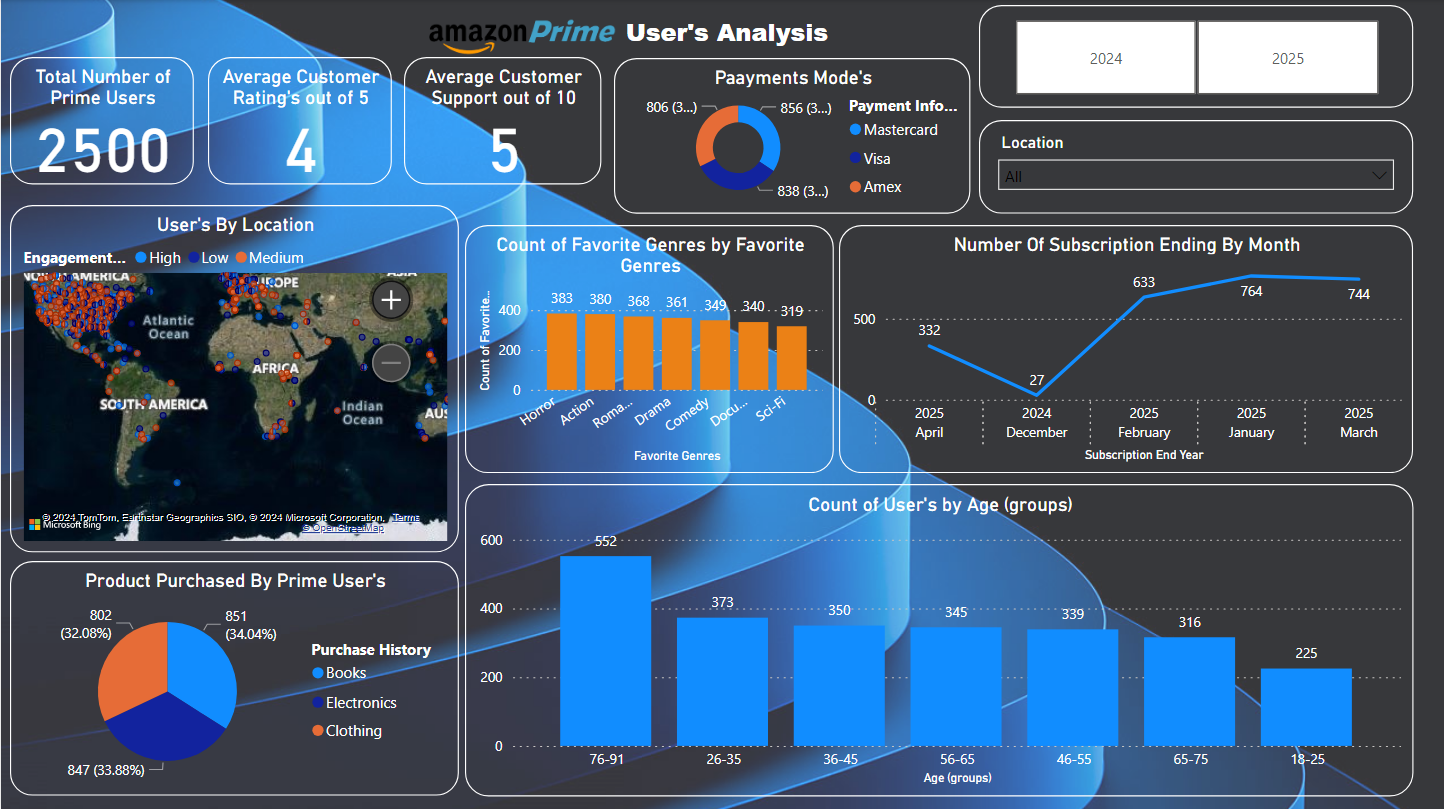

This screenshot's page, from the dashboard's own definition file:
{"tool":"powerbi","page":{"name":"Page 1","canvas":[1280,720],"ordinal":0},"visuals":[{"type":"card","title":"Total Number of Prime  Users","fields":{"Values":["amazon_prime_users.Total_NumOf_Subscribers"]},"box":[8.4,50.2,162.8,112.6],"z":0},{"type":"textbox","box":[8.4,8.4,1264.2,54],"z":1000},{"type":"card","title":"Average Customer Rating''s out of 5","fields":{"Values":["amazon_prime_users.Averageofratings"]},"box":[183.3,50.2,162.8,112.6],"z":2000},{"type":"map","title":"User''s By Location","fields":{"Category":["amazon_prime_users.Location","amazon_prime_users.Engagement Metrics"],"Series":["amazon_prime_users.Engagement Metrics"]},"box":[8.4,181.4,398.1,307.9],"z":3000},{"type":"pieChart","title":"Product Purchased By Prime User''s","fields":{"Y":["CountNonNull(amazon_prime_users.Purchase History)"],"Category":["amazon_prime_users.Purchase History"]},"box":[8.4,497.7,398.1,208.4],"z":4000},{"type":"clusteredColumnChart","title":"Count of User''s by Age (groups)","fields":{"Y":["CountNonNull(amazon_prime_users.User ID)"],"Category":["amazon_prime_users.Age (groups)"]},"box":[411.2,428.8,840.9,277.2],"z":5000},{"type":"donutChart","title":"Paayments Mode''s","fields":{"Y":["CountNonNull(amazon_prime_users.Payment Information)"],"Category":["amazon_prime_users.Payment Information"]},"box":[543.4,51,316.2,138.1],"z":6000},{"type":"lineChart","title":"Number Of Subscription Ending By Month","fields":{"Category":["amazon_prime_users.Subscription End Month","amazon_prime_users.Subscription End Year"],"Y":["CountNonNull(amazon_prime_users.Membership End Date)"]},"box":[743.1,199.5,509,219.9],"z":7000},{"type":"slicer","fields":{"Values":["amazon_prime_users.Subscription End Year"]},"box":[867.2,4.4,384.8,91.3],"z":8000},{"type":"slicer","fields":{"Values":["amazon_prime_users.Location"]},"box":[867.2,106.4,384.8,83.3],"z":9000},{"type":"card","title":"Average Customer Support out of 10","fields":{"Values":["amazon_prime_users.Average Cust Support"]},"box":[357.3,50.5,174.7,112.6],"z":10000},{"type":"clusteredColumnChart","fields":{"Category":["amazon_prime_users.Favorite Genres"],"Y":["CountNonNull(amazon_prime_users.Favorite Genres)"]},"box":[411.3,199.2,327.3,220.2],"z":11000},{"type":"image","box":[284.6,12.4,355.6,42.6],"z":11002}]}

Visuals, with their boxes in screenshot pixels (x1, y1, x2, y2), scaled from the page's 1280x720 canvas onto the 1444x809 screenshot:
"Total Number of Prime  Users" card: bbox=(9, 56, 193, 183)
textbox: bbox=(9, 9, 1436, 70)
"Average Customer Rating''s out of 5" card: bbox=(207, 56, 390, 183)
"User''s By Location" map: bbox=(9, 204, 459, 550)
"Product Purchased By Prime User''s" pieChart: bbox=(9, 559, 459, 793)
"Count of User''s by Age (groups)" clusteredColumnChart: bbox=(464, 482, 1413, 793)
"Paayments Mode''s" donutChart: bbox=(613, 57, 970, 212)
"Number Of Subscription Ending By Month" lineChart: bbox=(838, 224, 1413, 471)
slicer - amazon_prime_users.Subscription End Year: bbox=(978, 5, 1412, 108)
slicer - amazon_prime_users.Location: bbox=(978, 120, 1412, 213)
"Average Customer Support out of 10" card: bbox=(403, 57, 600, 183)
clusteredColumnChart - amazon_prime_users.Favorite Genres x CountNonNull(amazon_prime_users.Favorite Genres): bbox=(464, 224, 833, 471)
image: bbox=(321, 14, 722, 62)
